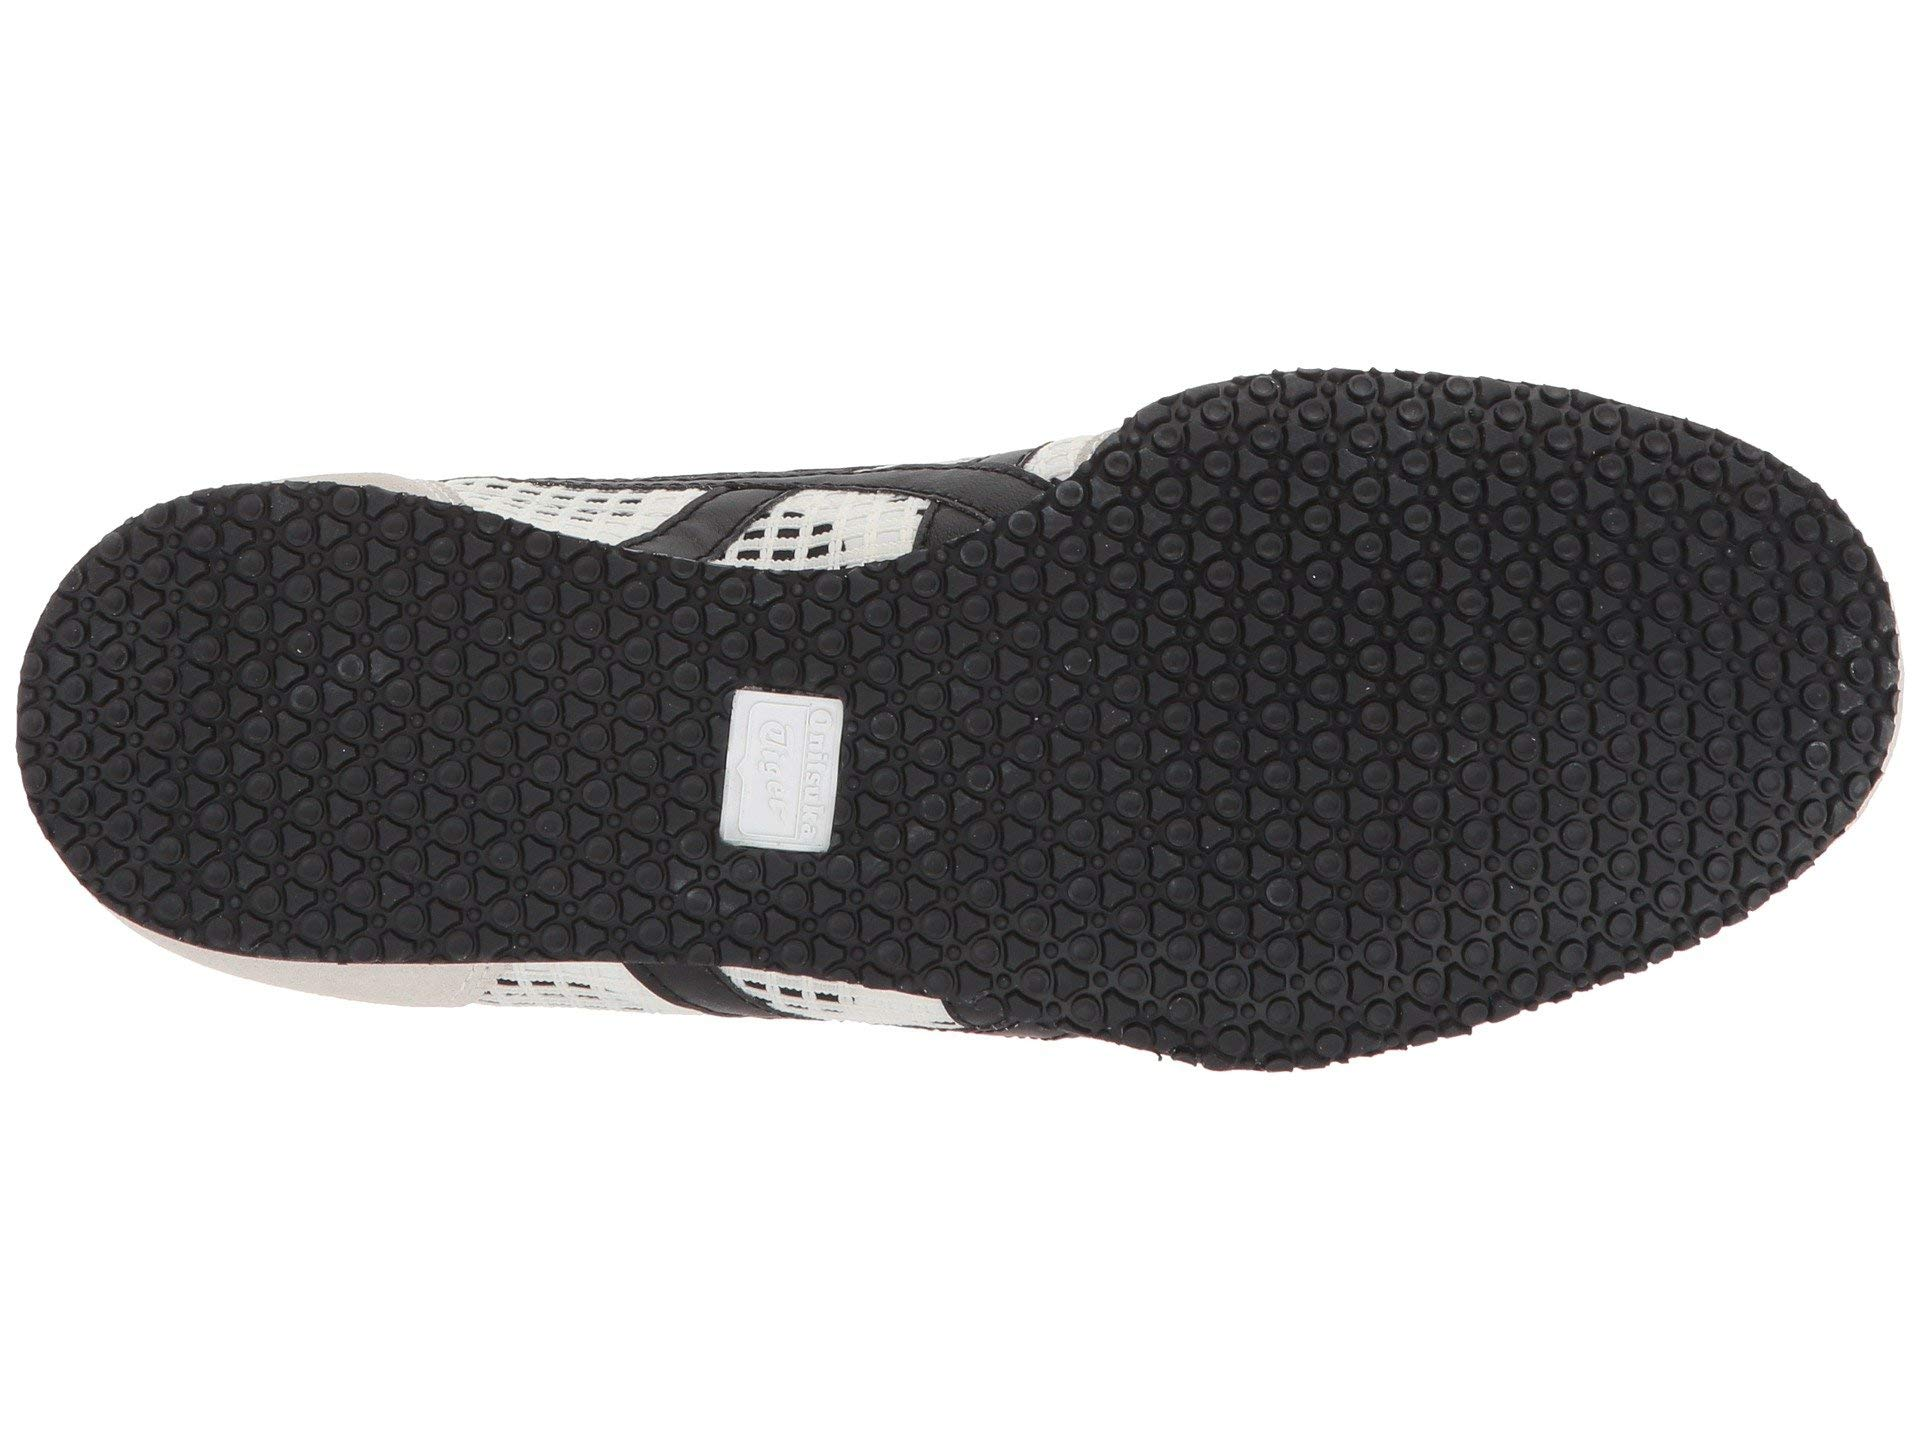circle: (1081, 458, 1755, 905)
quad: (720, 678, 844, 846)
text: (720, 678, 844, 846)
triangle: (1081, 458, 1755, 905)
